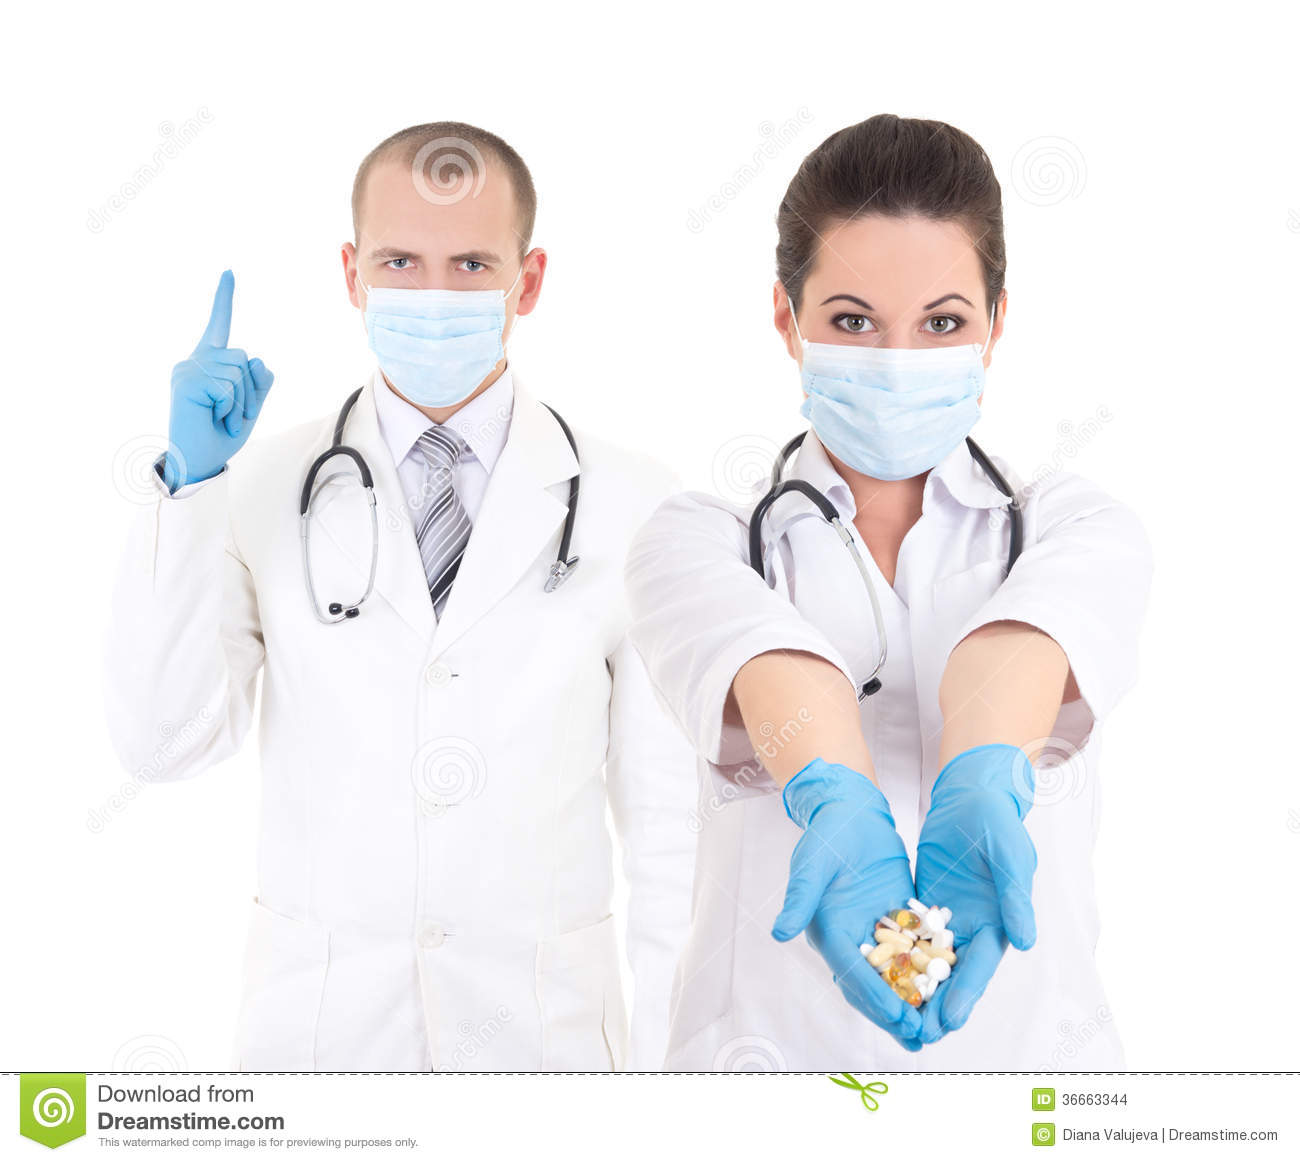mask: (796, 333, 1007, 473), (348, 287, 525, 403)
